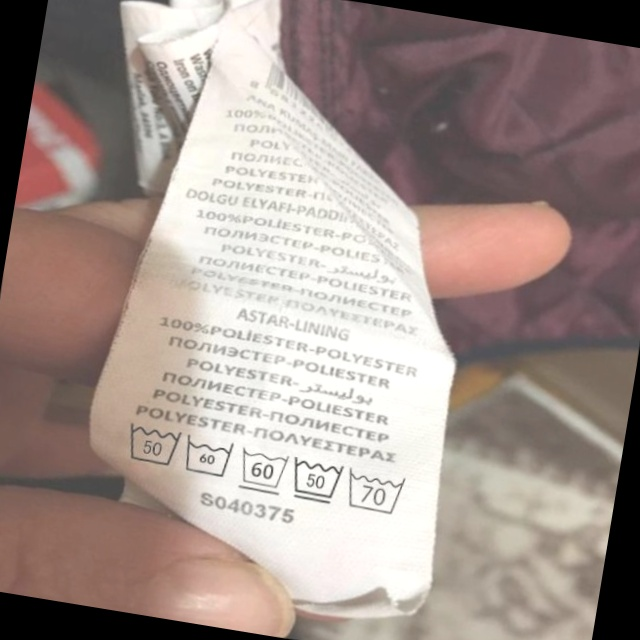50C: (117, 413, 188, 474), (285, 451, 349, 510)
60C: (234, 441, 295, 499), (178, 429, 240, 485)
70C: (342, 464, 414, 520)
